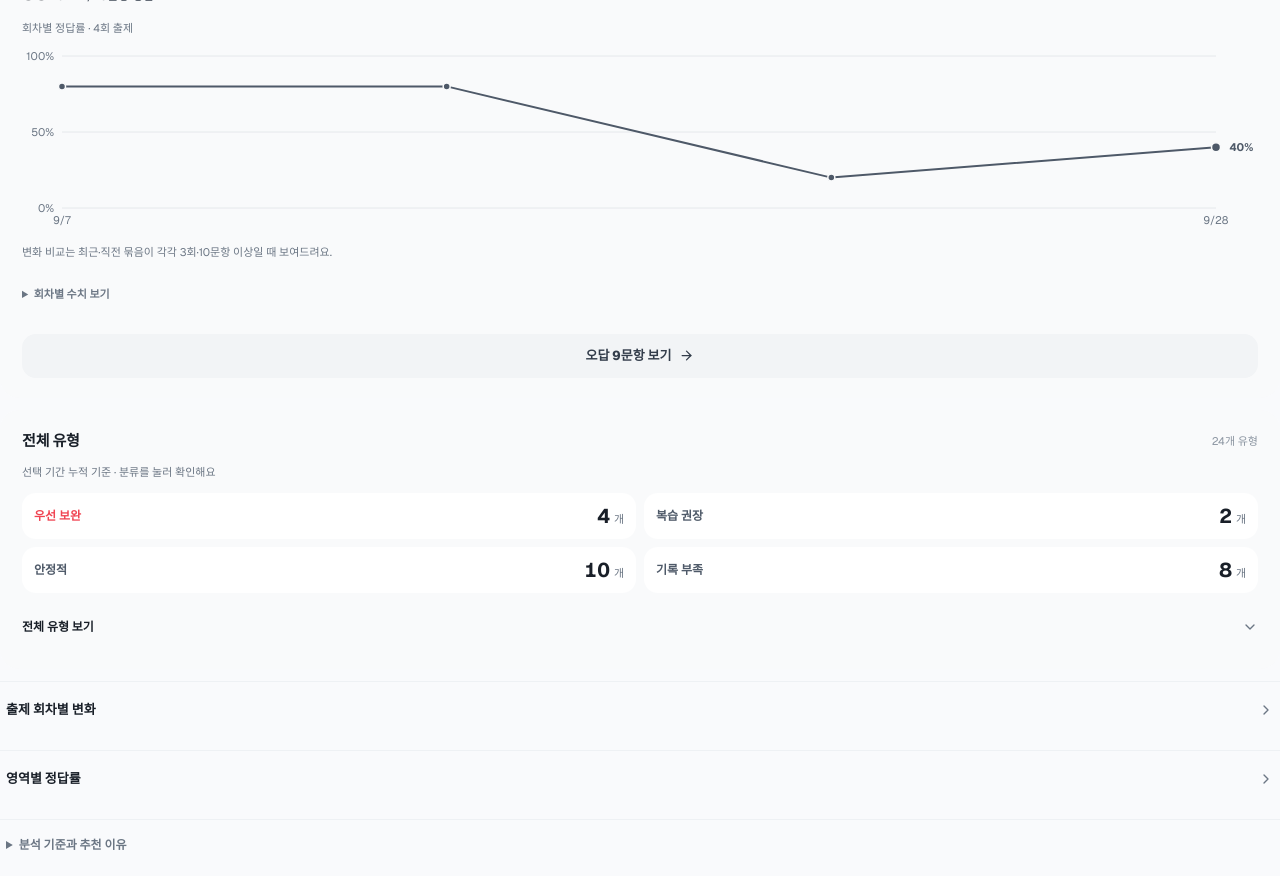
Test: Share 분석 디자인 이력 › 상태 선택으로 목록을 열고 이름 검색과 필터를 함께 적용한다
(page scrolled)
Click the button with aria-label "우선 보완 4개 유형 보기".
click(58, 516)  # box [22,493,636,539]
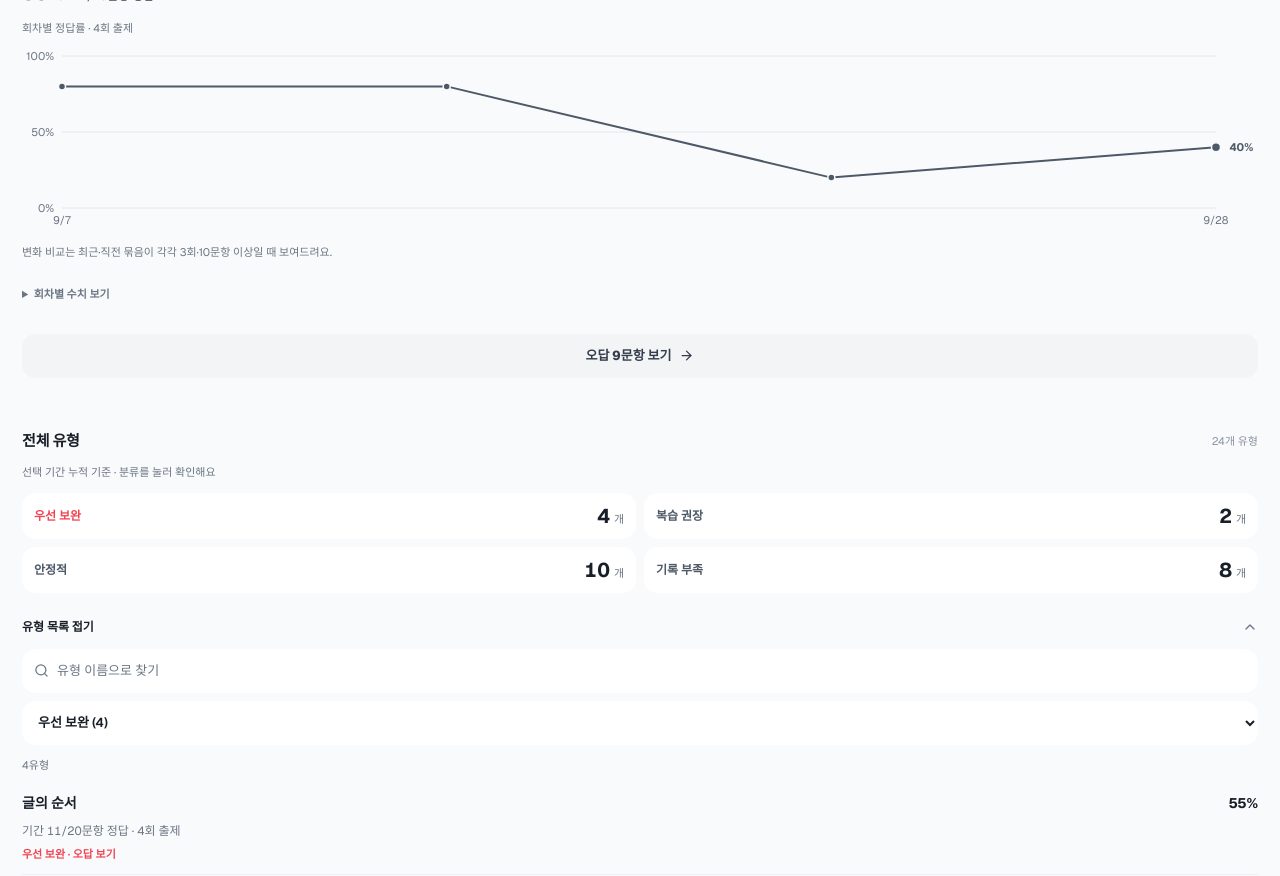
expect the number of buttons "글의 순서 55% 기간 11/20문항 정답 · 4회 출제 우선 보완 · 오답 보기" is 4: met
Type "빈칸" into the search field named "유형 이름 검색".
click(652, 671); type("빈칸")  # box [57,649,1246,692]
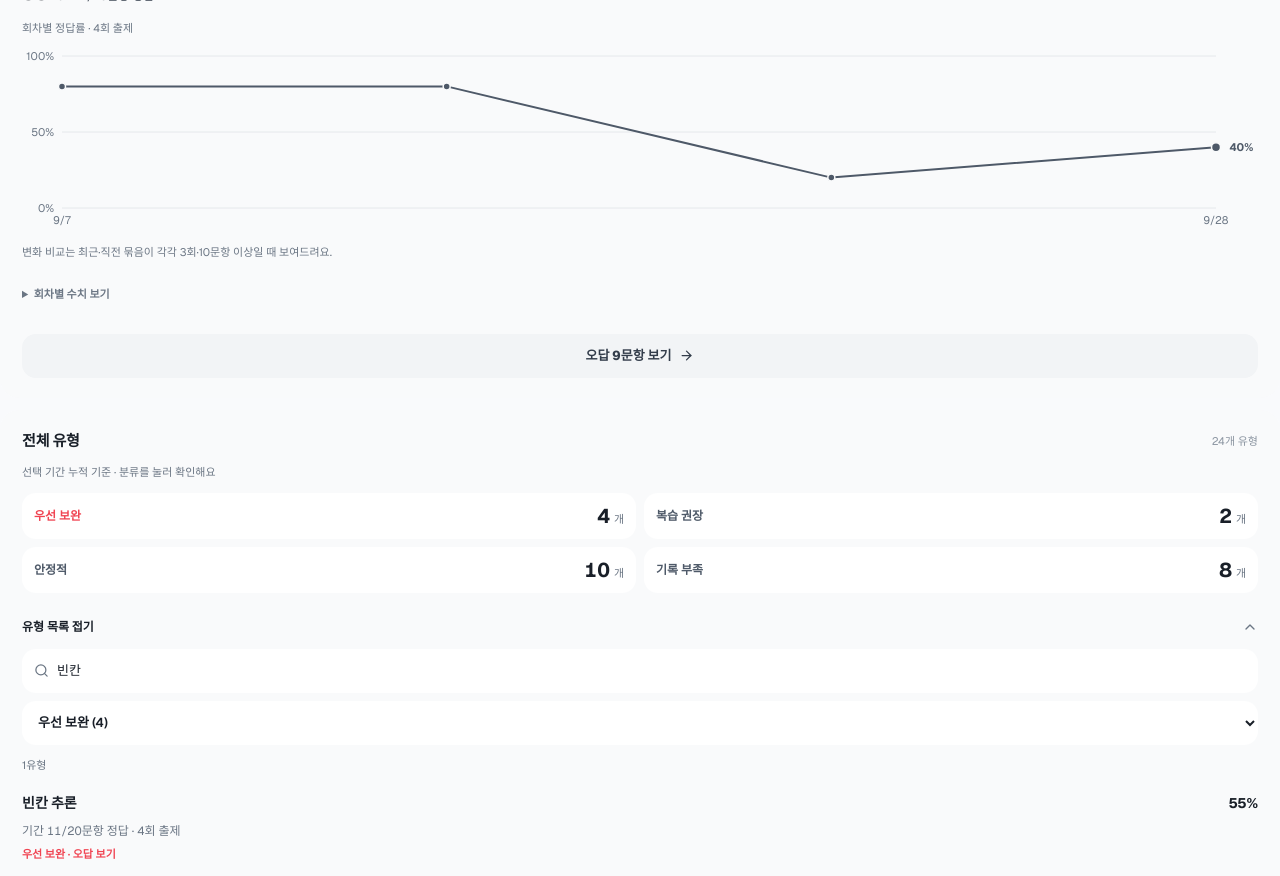
expect the number of buttons "빈칸 추론 55% 기간 11/20문항 정답 · 4회 출제 우선 보완 · 오답 보기" is 1: met, box [22,781,1258,874]
Select "안정적 (10)" in the dropdown named "유형 상태 필터" at coordinates (640, 723), box [22,701,1258,745]
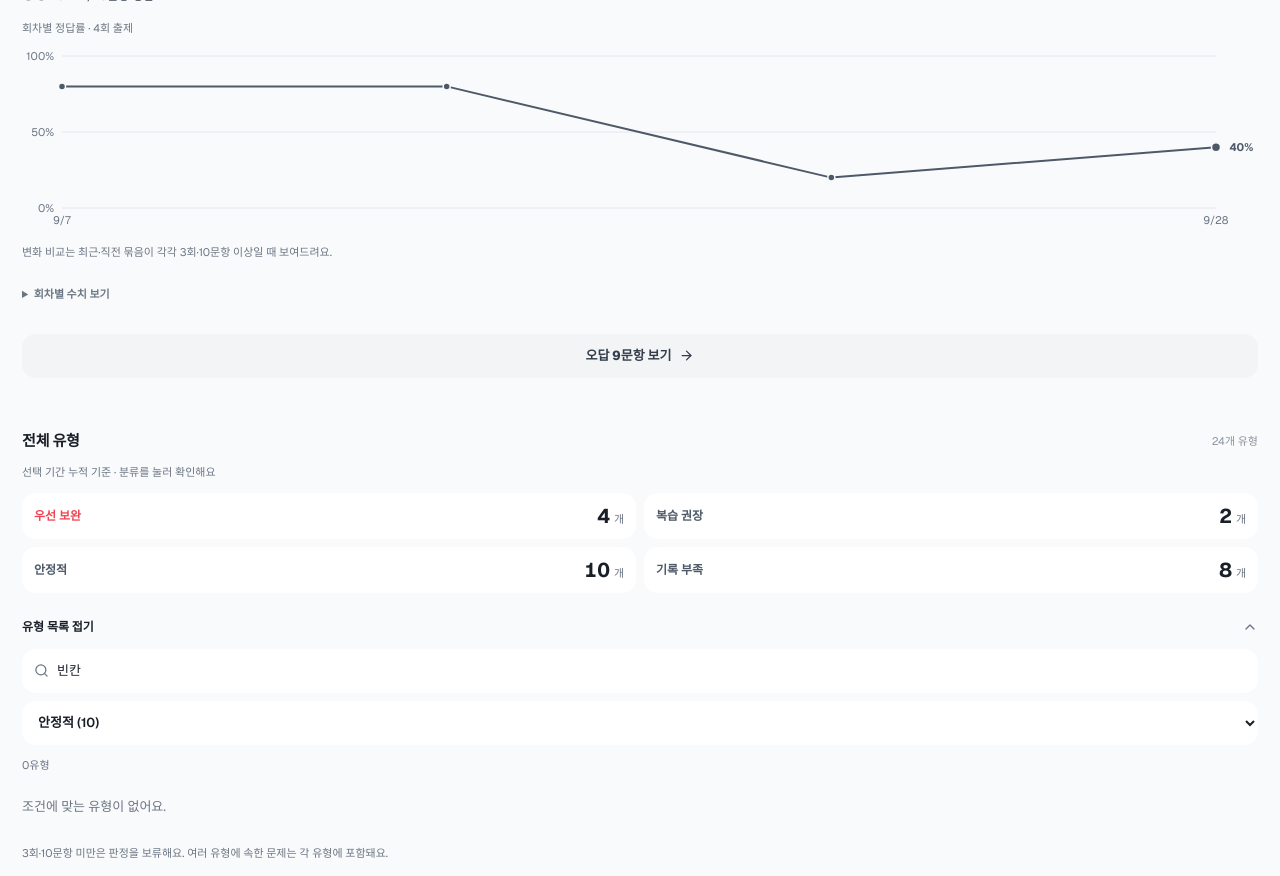
expect the text "조건에 맞는 유형이 없어요." is shown: met, box [22,798,166,815]
Click the button with aria-label "안정적 10개 유형 보기".
click(51, 570)  # box [22,547,636,593]
(page scrolled)
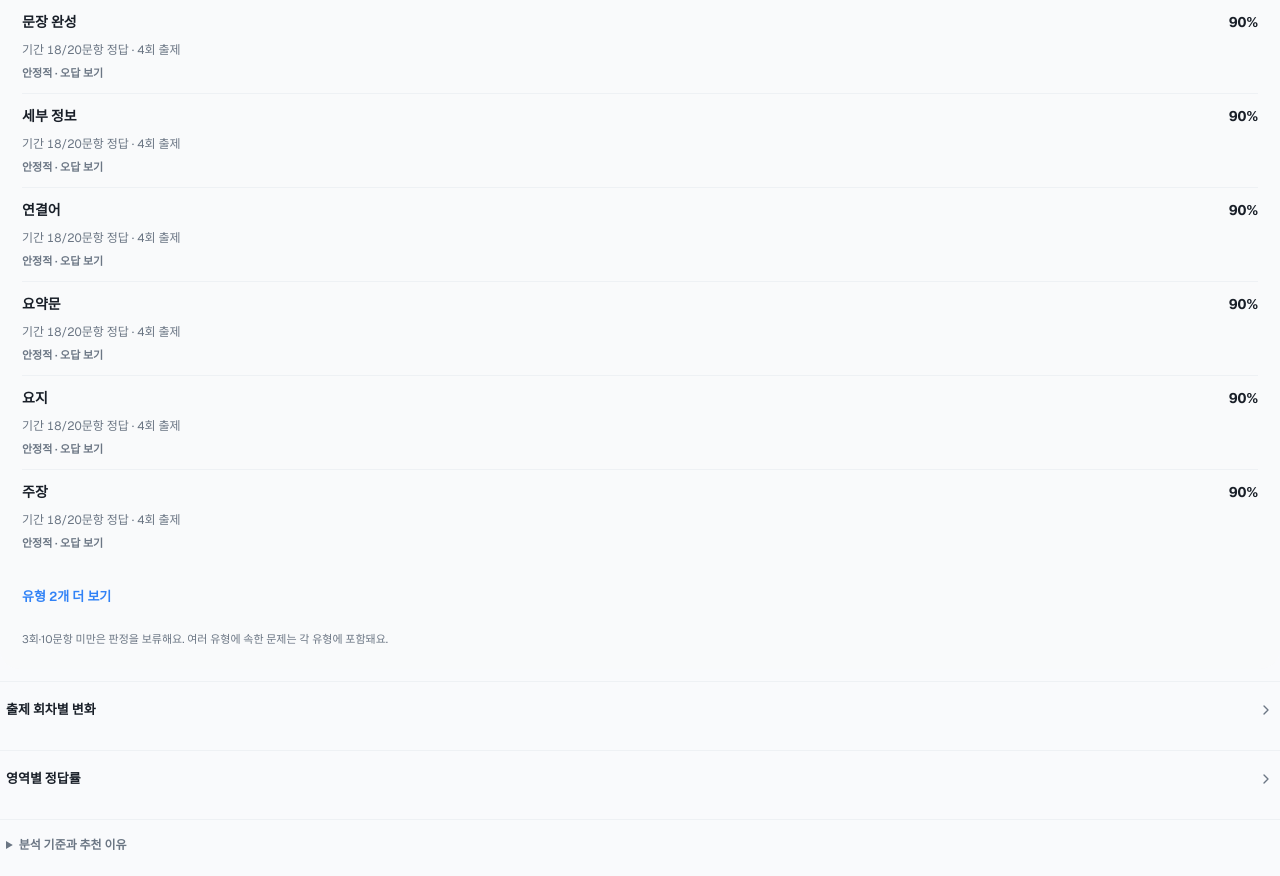
expect the button "유형 2개 더 보기" is shown: met, box [22,575,111,619]
